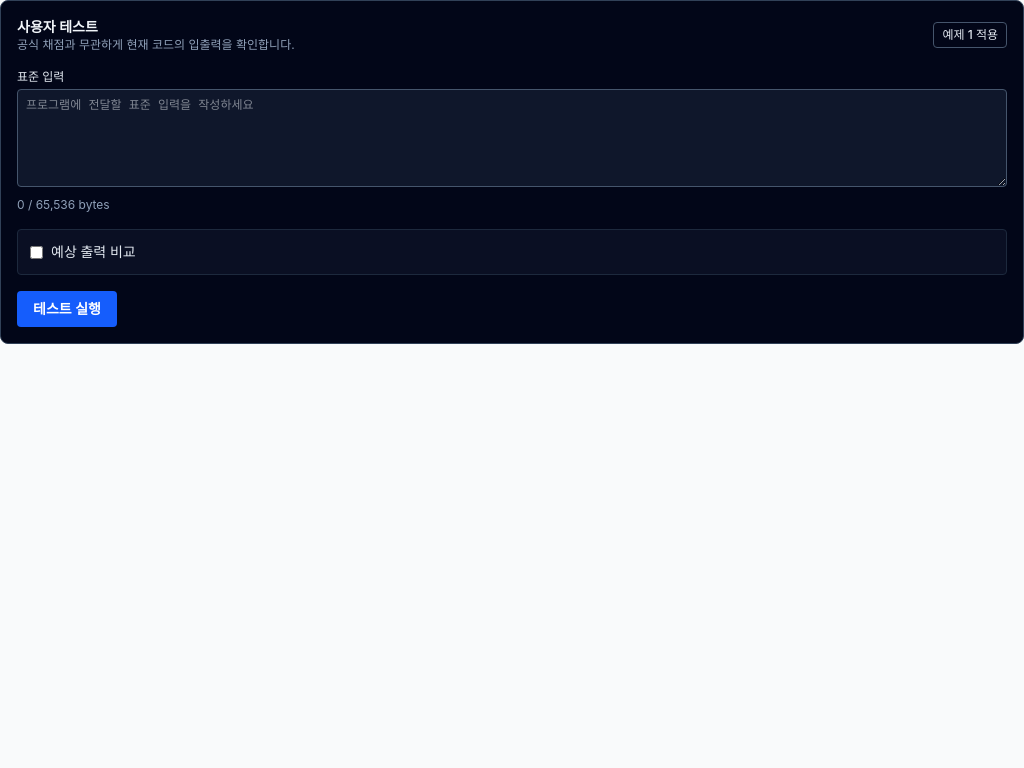
Test: applies sample input and expected output for a user-controlled run
Click the button "예제 1 적용" at (970, 35), box 934,22 -> 1007,48
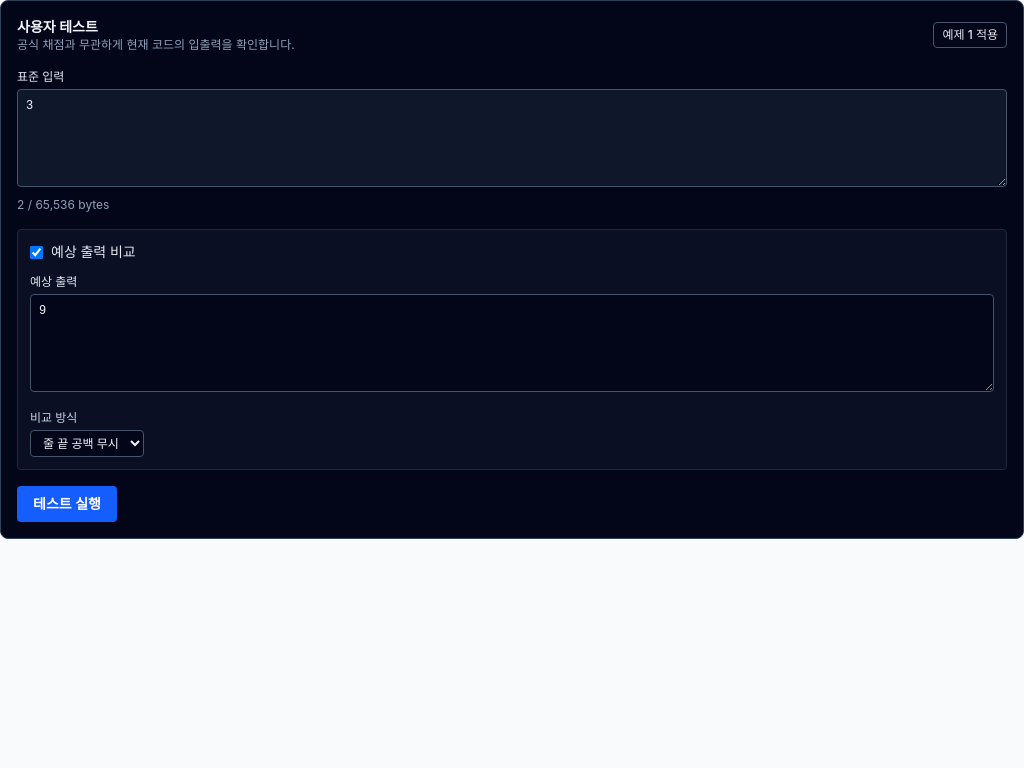
expect the text box labelled "표준 입력" holds "3 ": met, box 17,89 -> 1007,187
expect the checkbox labelled "예상 출력 비교" is checked: met, box 30,246 -> 43,258
